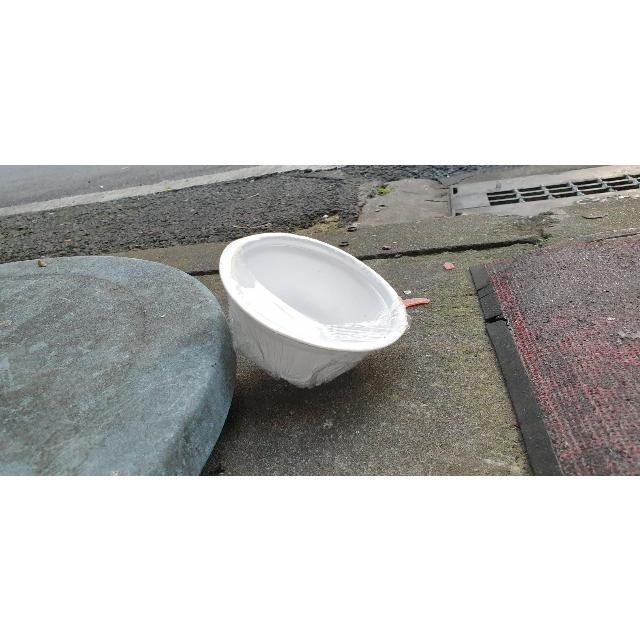Plastico descartable: (216, 234, 409, 390)
